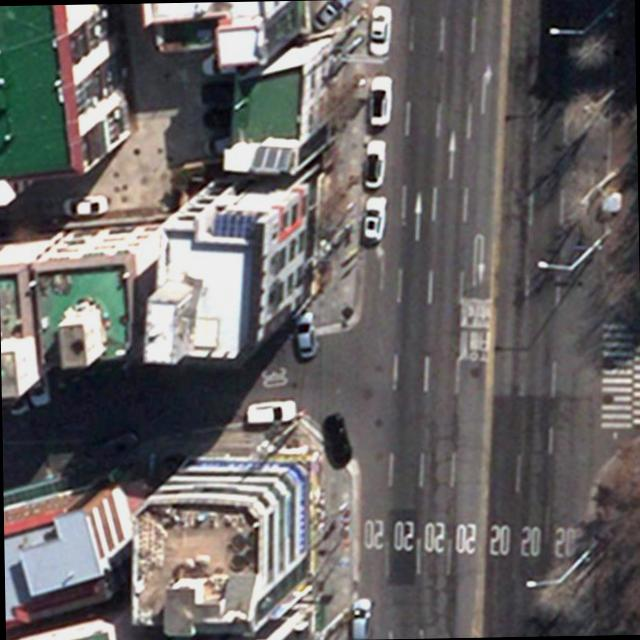solar: (210, 212, 260, 242), (248, 144, 294, 174)
